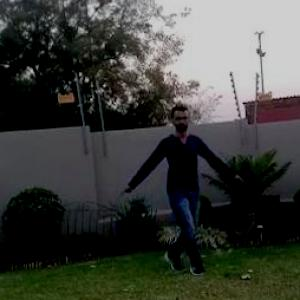land: (119, 113, 234, 264)
